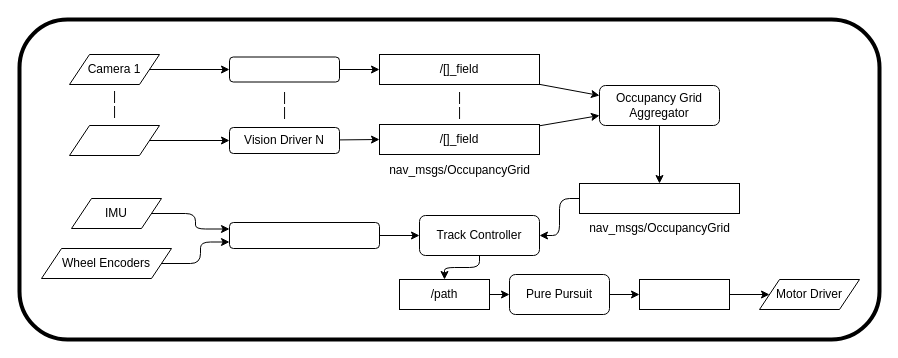
The diagram is 898 pixels wide and 358 high, and some of its shapes have lost their labels. Each missing label, with the box of its shape:
/cmd_vel: (638, 278, 730, 310)
/potential_field_combined: (578, 182, 740, 214)
Camera N: (68, 124, 160, 156)
robot_localization_node: (228, 222, 380, 248)
Vision Driver 1: (228, 56, 340, 82)
